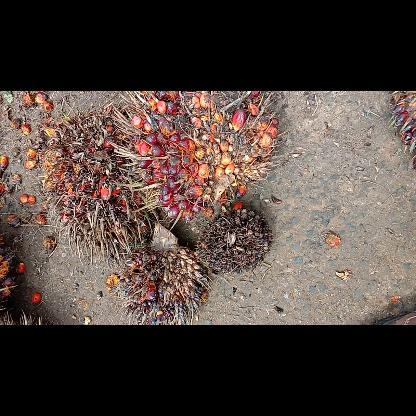TBS abnormal: (114, 244, 212, 324), (192, 206, 274, 272)
TBS masak: (113, 92, 283, 222)
Terlalu masak: (40, 105, 160, 268)
